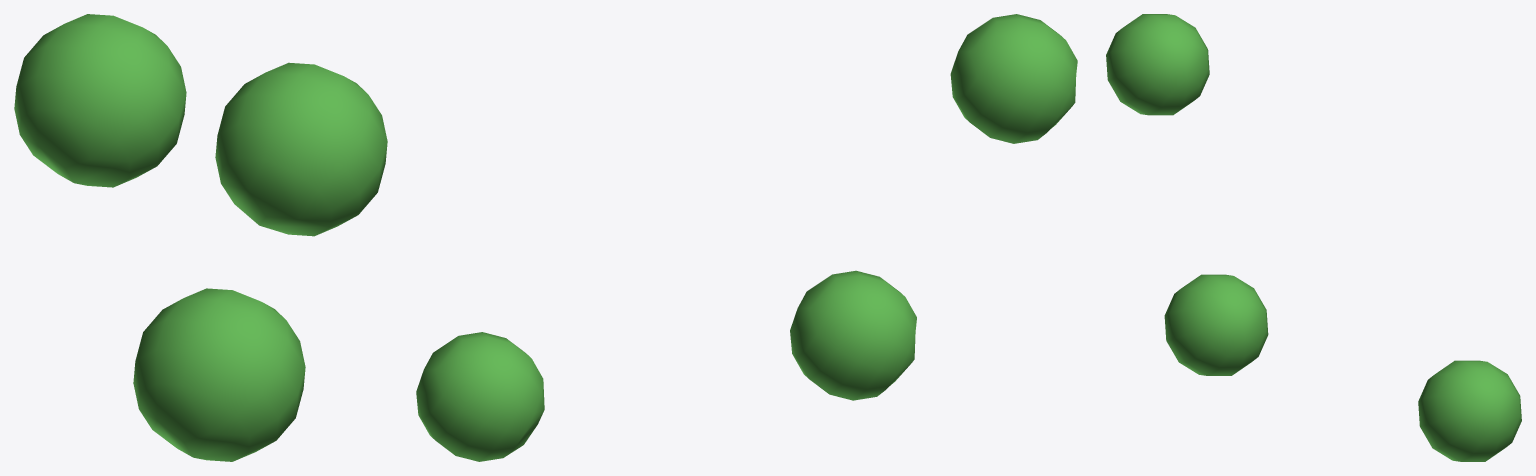
The model's file is linfatico-superficial-parotid-nodes-r.glb.
3 views of the same model, side by side, from view 1: azimuth 30°, elevation 25°; view 2: azimuth 150°, elevation 25°; view 3: azimuth 270°, elevation 25° (orthographic). The views are drawn at different scales.
Visible parts, largest first — view 1: Superficial parotid nodes.r; view 2: Superficial parotid nodes.r; view 3: Superficial parotid nodes.r.
Boxes of the visible parts, <box> form: Superficial parotid nodes.r: <box>14,14,387,461</box>; Superficial parotid nodes.r: <box>416,14,1077,461</box>; Superficial parotid nodes.r: <box>1106,14,1521,461</box>.
Size of the model in its own units: 0.0105 by 0.00832 by 0.0102.
